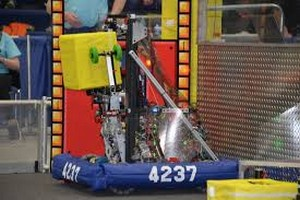cube: (57, 36, 122, 91)
